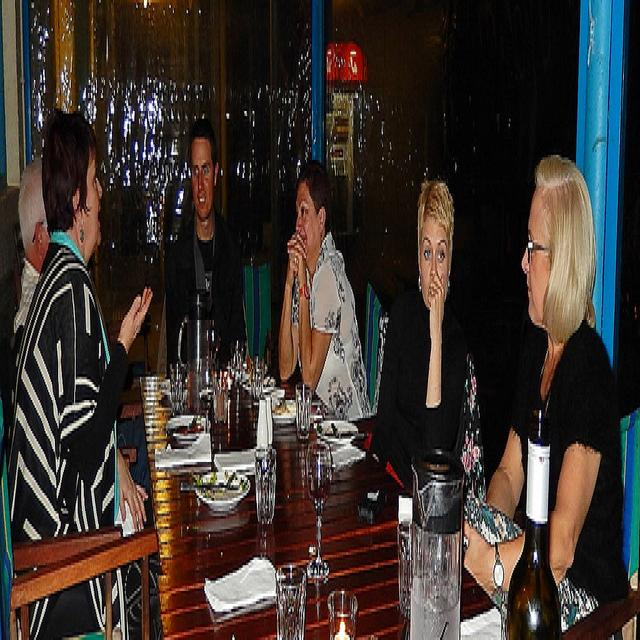chair: (0, 398, 158, 640), (562, 405, 640, 640), (322, 266, 394, 433), (15, 527, 122, 574), (104, 320, 152, 420), (240, 254, 272, 357), (1, 255, 23, 355)
dining table: (139, 361, 494, 640)
